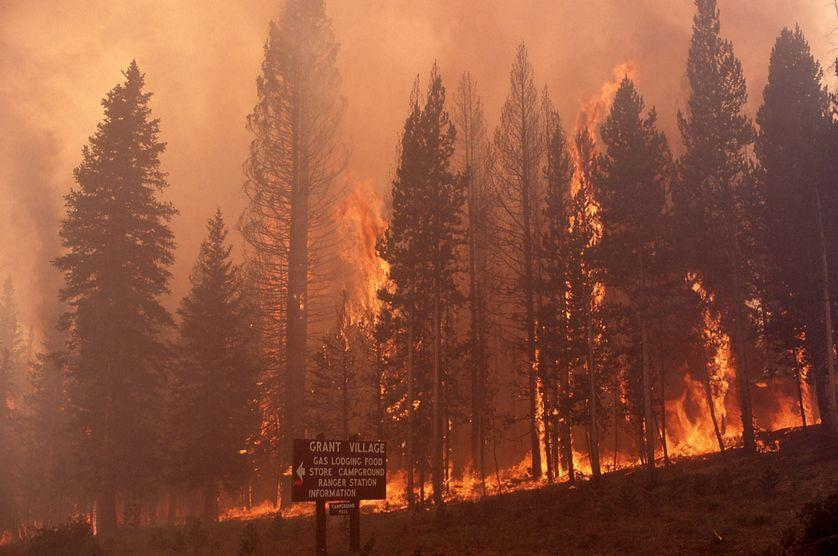Fire: (518, 290, 827, 489), (229, 200, 421, 345), (541, 66, 649, 283), (221, 455, 510, 532)
